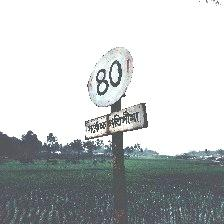Speed-limit: (85, 46, 147, 140)
